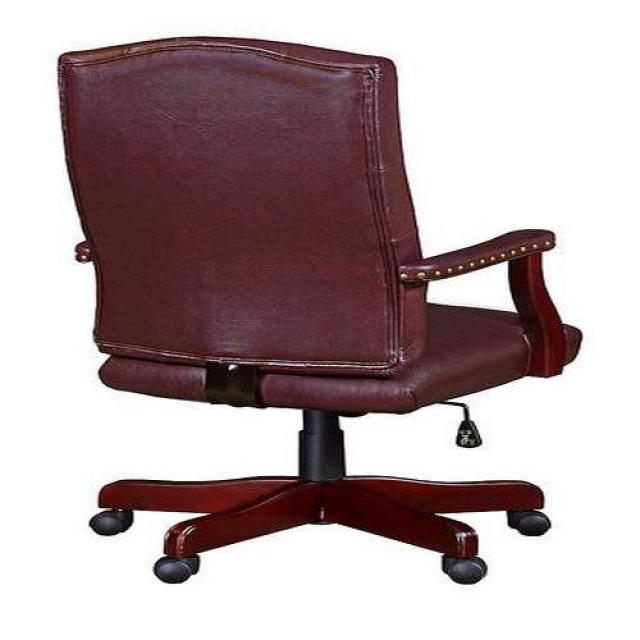swivelchair: (58, 37, 585, 586)
